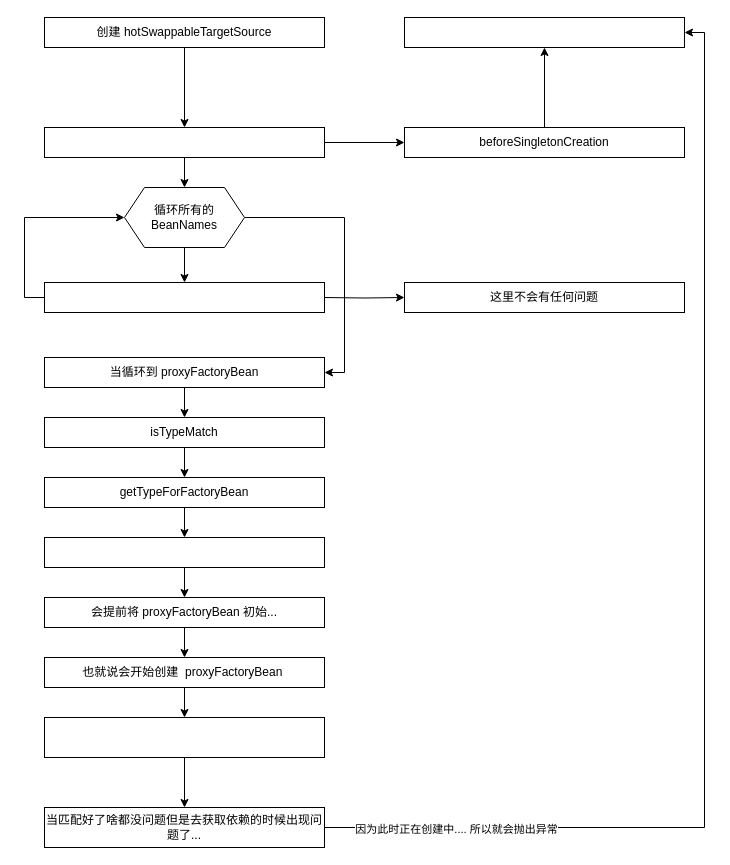
Image size: 730x865. Some labels were removed from this diagram. Here are the shapes that lost their labels. From the top down, the centre of each, then its label:
At [544,32]: "标记 hotSwappableTargetSource正在创建中".
At [184,142]: "getSingleton".
At [184,297]: "获取到 依赖 HotSwappableTargetSourceBeanA".
At [184,552]: "有一个判断是否允许初始...".
At [184,737]: "而 proxyFactoryBean 依赖了 hotSwappableTargetSource".
